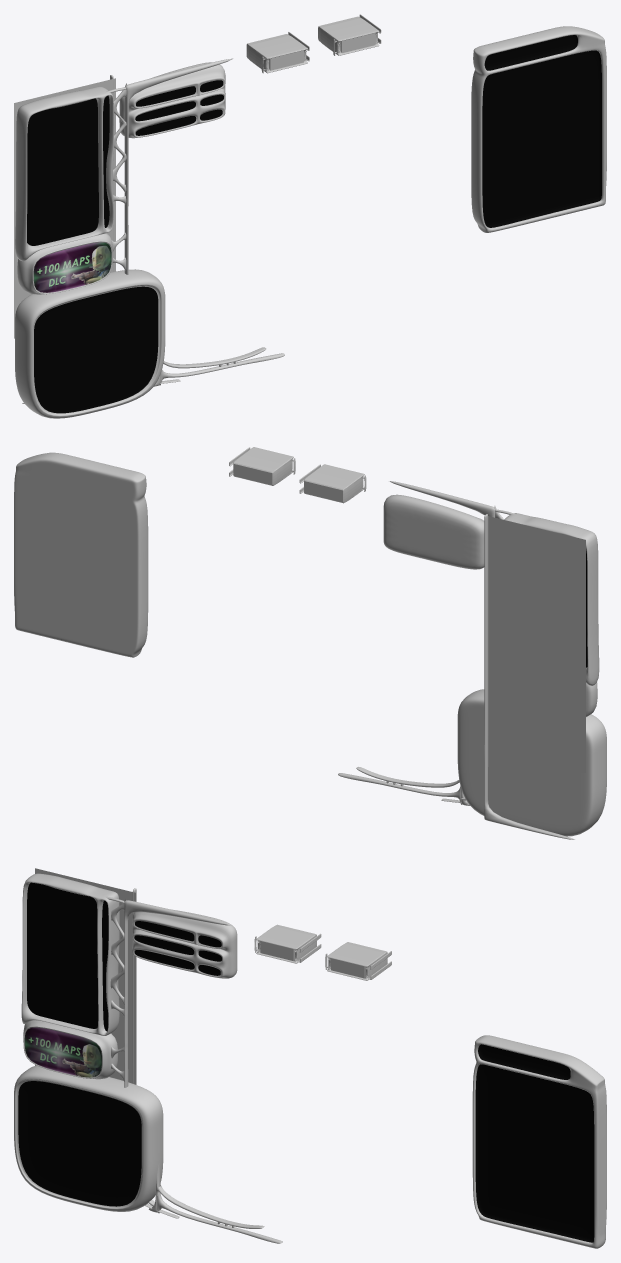
File: SM_MainMenu_Host_00.fbx
3 renders of one model, top to bottom at view 1: azimuth 30°, elevation 25°; view 2: azimuth 150°, elevation 25°; view 3: azimuth 330°, elevation 25°, orthographic.
Parts seen in each view (by area): view 1: SM_Lobby_Settings_00, chatscreen, friends_screen, TrainingGround, DLCscreen, SM_MainMenu_Block_00.008, SM_MainMenu_Block_00.016, bg_wiremesh_01; view 2: SM_Lobby_Settings_00, bg_wiremesh_01, chatscreen, TrainingGround, SM_MainMenu_Block_00.008, SM_MainMenu_Block_00.016, friends_screen; view 3: SM_Lobby_Settings_00, chatscreen, friends_screen, TrainingGround, SM_MainMenu_Block_00.008, DLCscreen, SM_MainMenu_Block_00.016, bg_wiremesh_01.
Part boxes in pixels (left/top/right/bottom): SM_Lobby_Settings_00: left=471, top=26, right=606, bottom=232; chatscreen: left=15, top=269, right=165, bottom=418; friends_screen: left=15, top=86, right=113, bottom=261; TrainingGround: left=119, top=62, right=225, bottom=138; DLCscreen: left=17, top=233, right=112, bottom=294; SM_MainMenu_Block_00.008: left=22, top=58, right=284, bottom=403; SM_MainMenu_Block_00.016: left=246, top=14, right=381, bottom=73; bg_wiremesh_01: left=14, top=78, right=115, bottom=338; SM_Lobby_Settings_00: left=14, top=452, right=148, bottom=657; bg_wiremesh_01: left=488, top=516, right=585, bottom=772; chatscreen: left=457, top=689, right=606, bottom=836; TrainingGround: left=383, top=494, right=484, bottom=569; SM_MainMenu_Block_00.008: left=338, top=481, right=574, bottom=839; SM_MainMenu_Block_00.016: left=229, top=447, right=366, bottom=503; friends_screen: left=504, top=513, right=599, bottom=685; SM_Lobby_Settings_00: left=472, top=1035, right=606, bottom=1248; chatscreen: left=14, top=1065, right=163, bottom=1211; friends_screen: left=21, top=873, right=119, bottom=1035; TrainingGround: left=132, top=909, right=237, bottom=978; SM_MainMenu_Block_00.008: left=105, top=888, right=282, bottom=1243; DLCscreen: left=23, top=1020, right=117, bottom=1079; SM_MainMenu_Block_00.016: left=254, top=924, right=391, bottom=980; bg_wiremesh_01: left=35, top=868, right=135, bottom=1084.
Size of the model in its own units: 1935 by 996 by 152.
